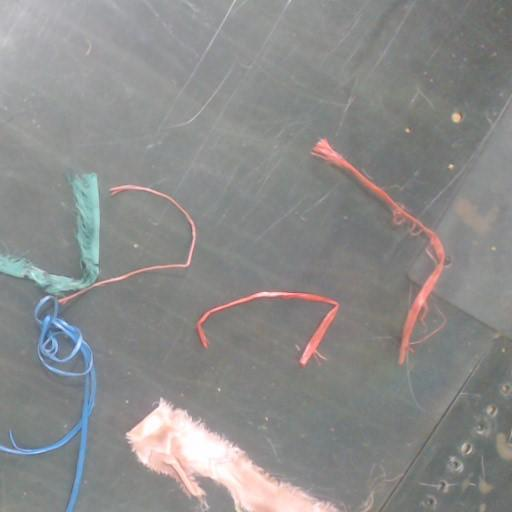cloth: (127, 399, 337, 511), (0, 173, 99, 296)
thread: (0, 185, 194, 511), (313, 139, 445, 364), (197, 292, 338, 366)
